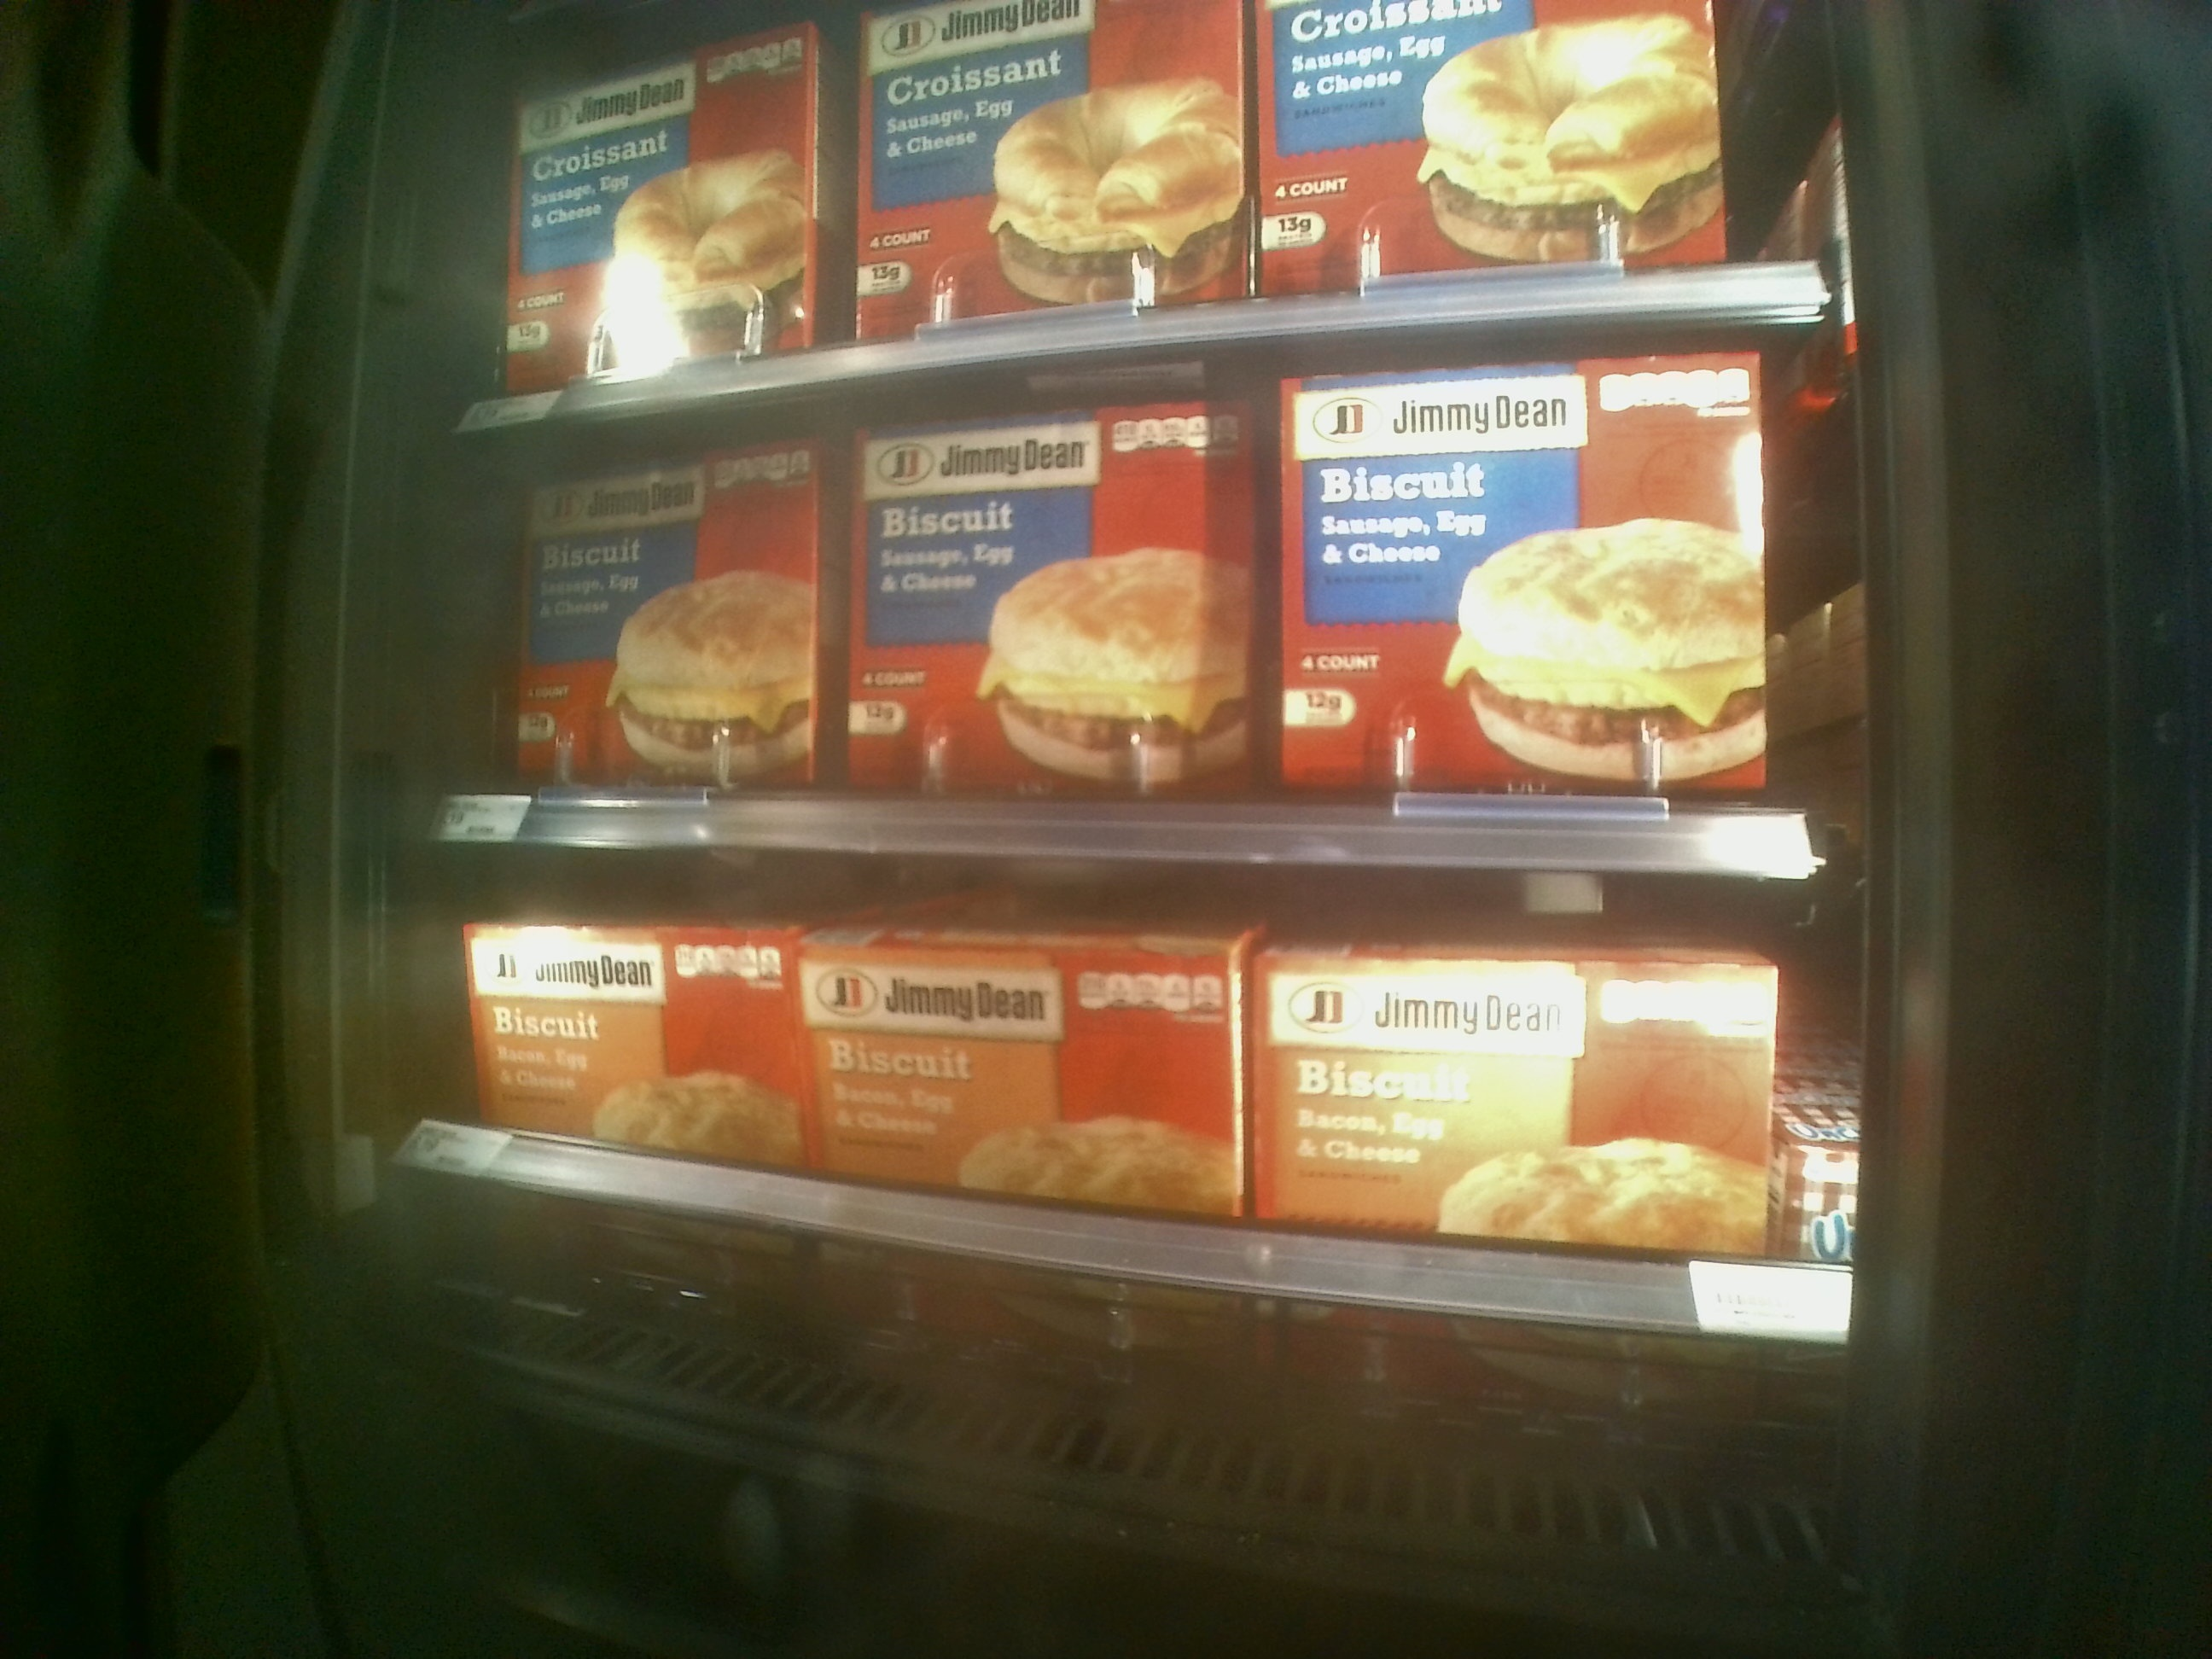shelf: (421, 828, 1867, 1474), (435, 310, 1857, 884)
